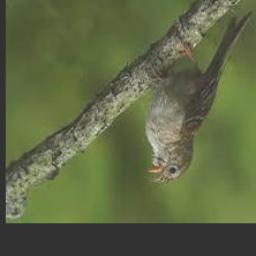Sparrow: (144, 13, 250, 186)
